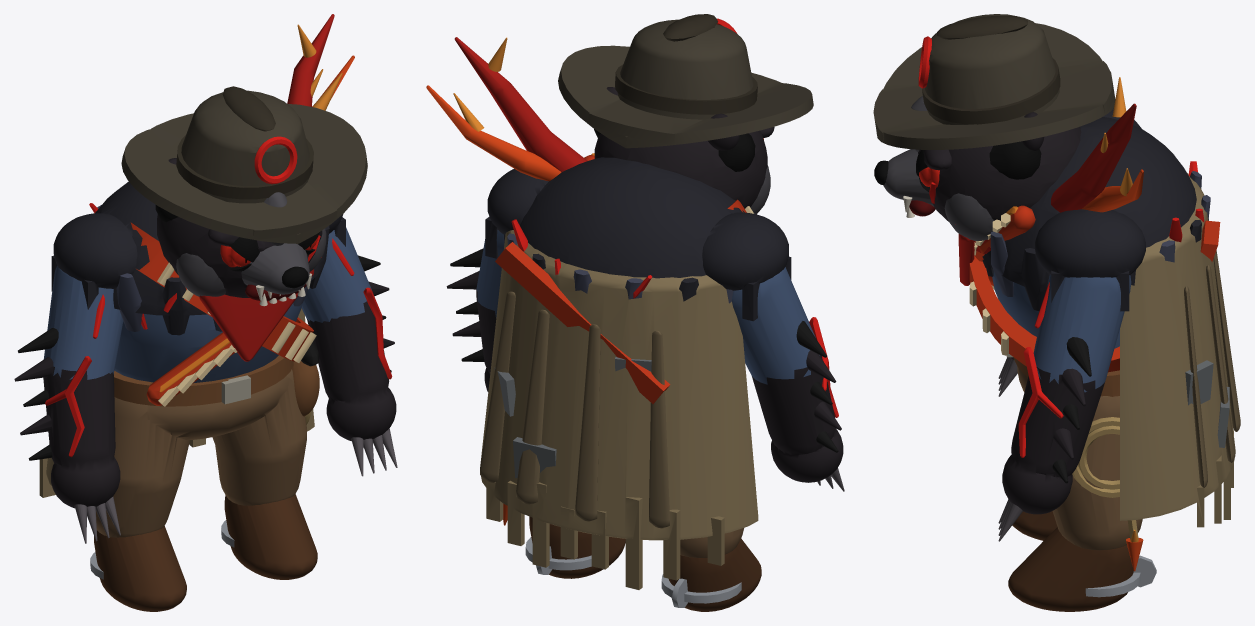
File: badlander_majin.glb
The picture shows the model from 3 angles, left to right: view 1: azimuth 30°, elevation 25°; view 2: azimuth 150°, elevation 25°; view 3: azimuth 270°, elevation 25°; orthographic projection. The views are drawn at different scales.
Parts seen in each view (by area): view 1: creature; view 2: creature; view 3: creature.
Part boxes in pixels (x1,y1,x2,y2): creature: [14, 14, 397, 611]; creature: [426, 14, 844, 611]; creature: [873, 14, 1240, 611].
Bounding box in the file's own units: 0.7585 × 1 × 0.6004.
